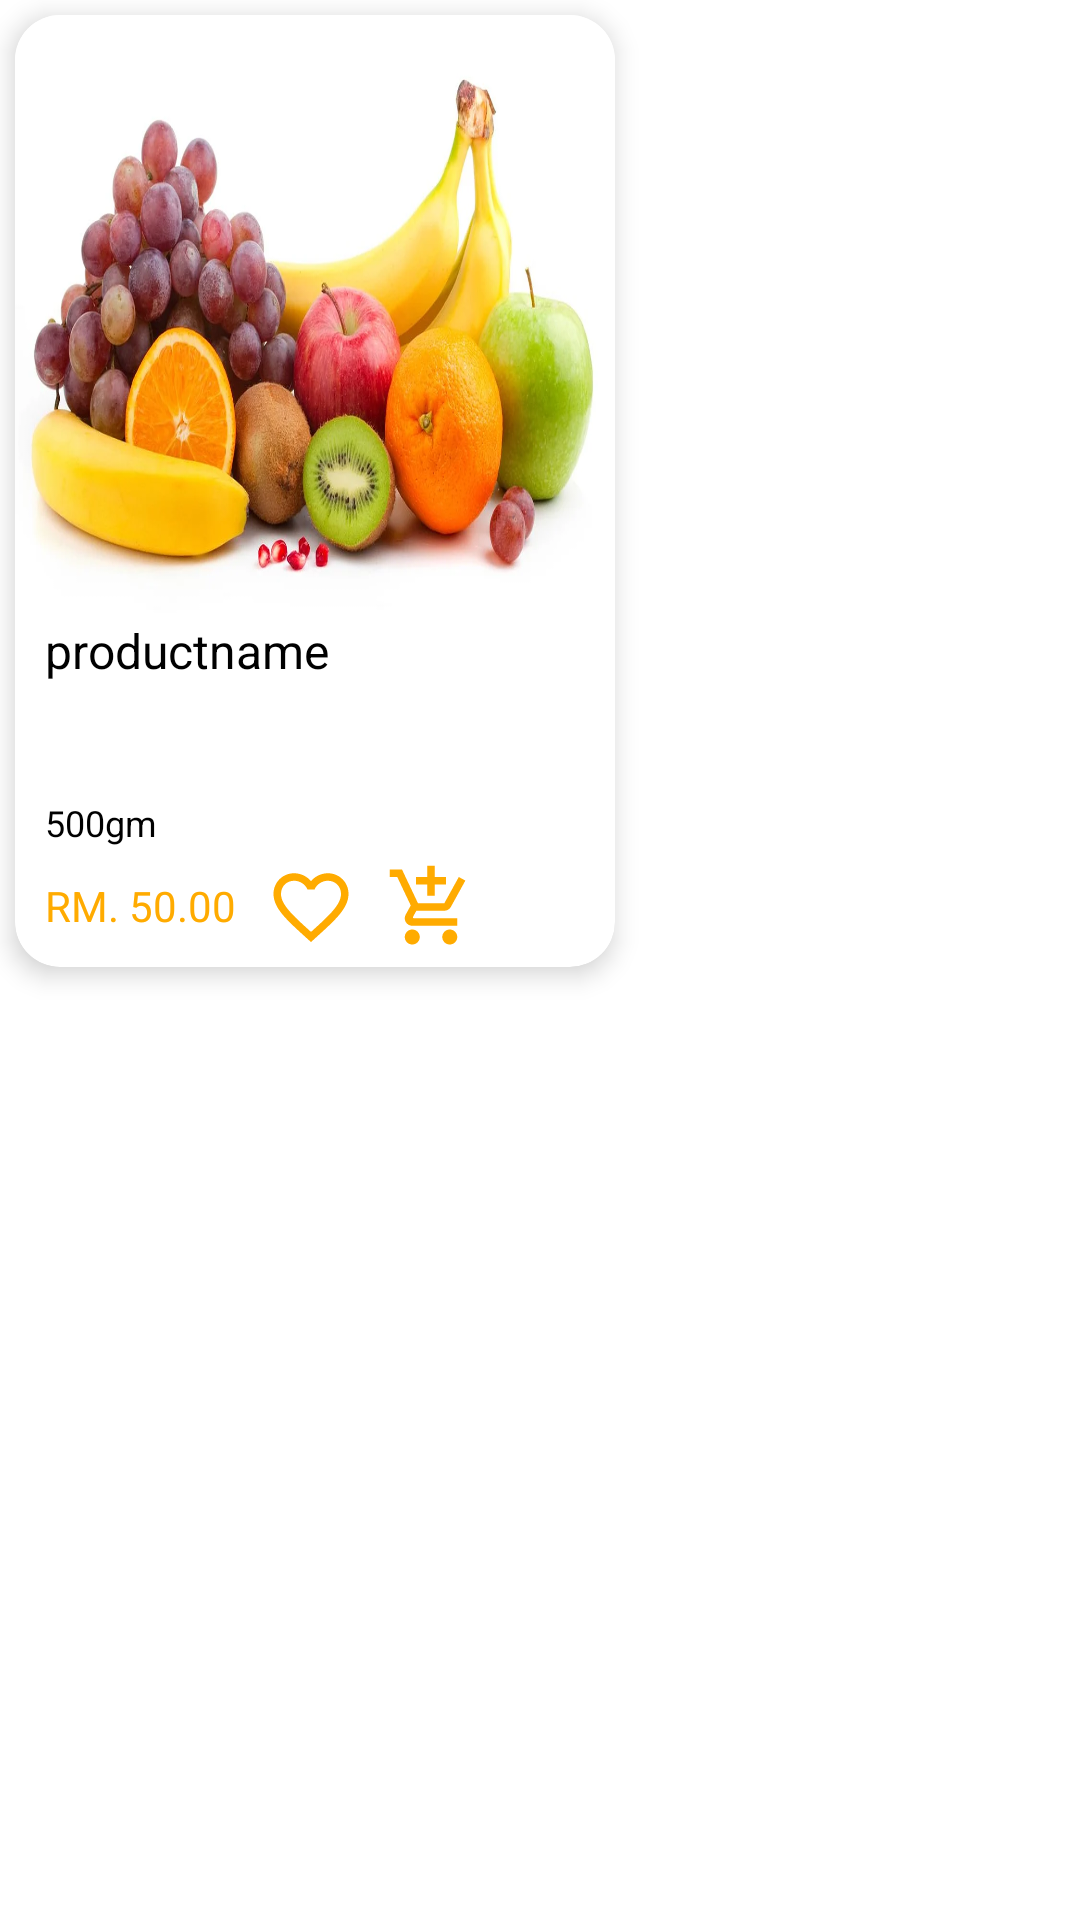

Icons on this 1080*1920 Android screen, each with the point to tap as [x,y]:
add shopping cart: [427,905]
favorite botton: [311,907]
